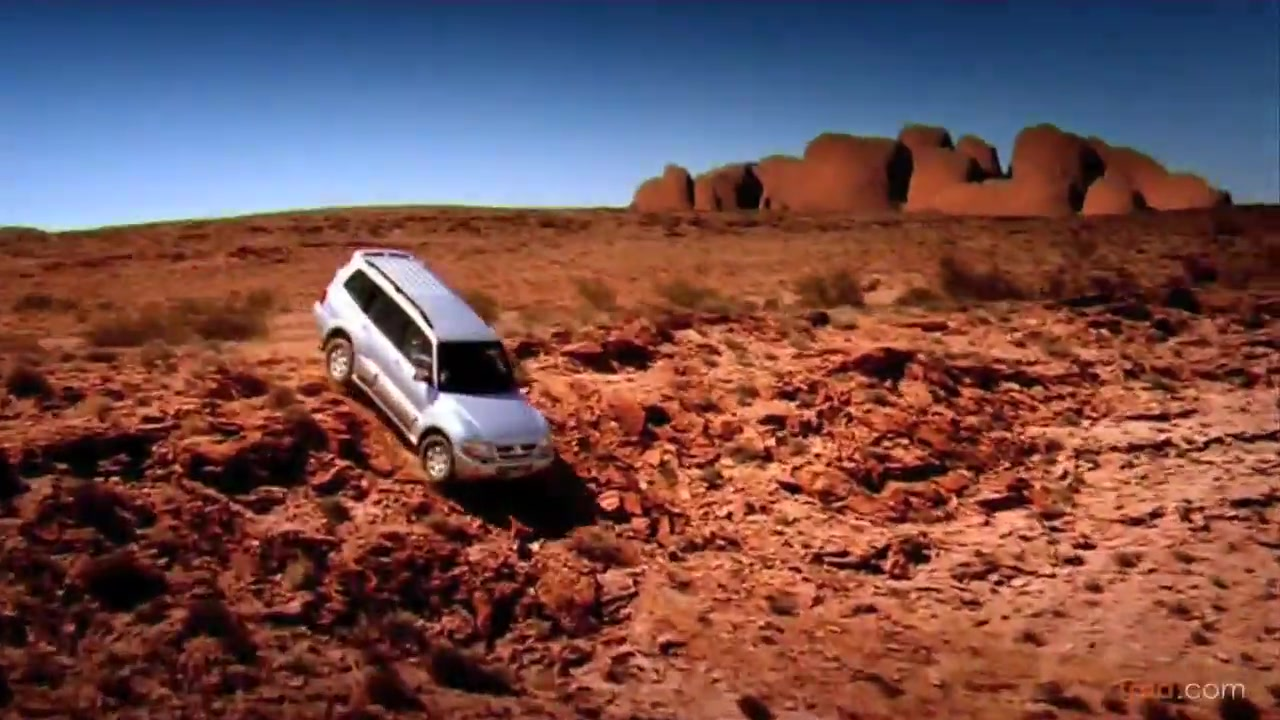car: (318, 238, 558, 486)
